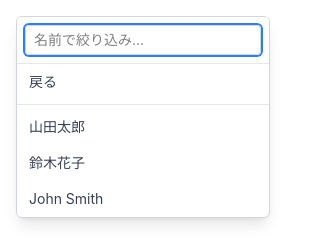
Scenario: ContextMenu › 検索フィルター › 検索文字列でfilterable項目のみがフィルタリングされる
The image size is (320, 244).
Step 1. Type "山田" into the field with placeholder "名前で絞り込み..." → x=143, y=40, box [25, 25, 261, 55]
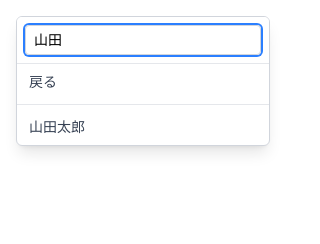
Expected: the text "戻る" is shown, [29, 72, 57, 92]
Expected: the menu item "鈴木花子" is gone
Expected: the menu item "John Smith" is gone
